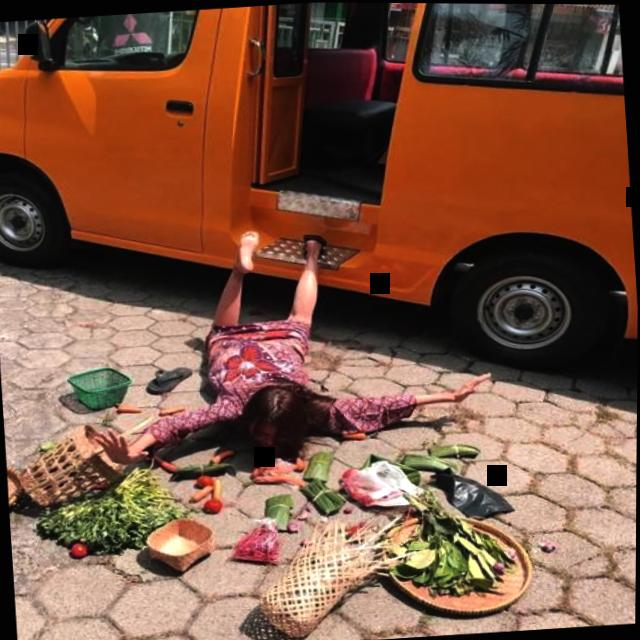Fall-Detected: (84, 196, 488, 487)
